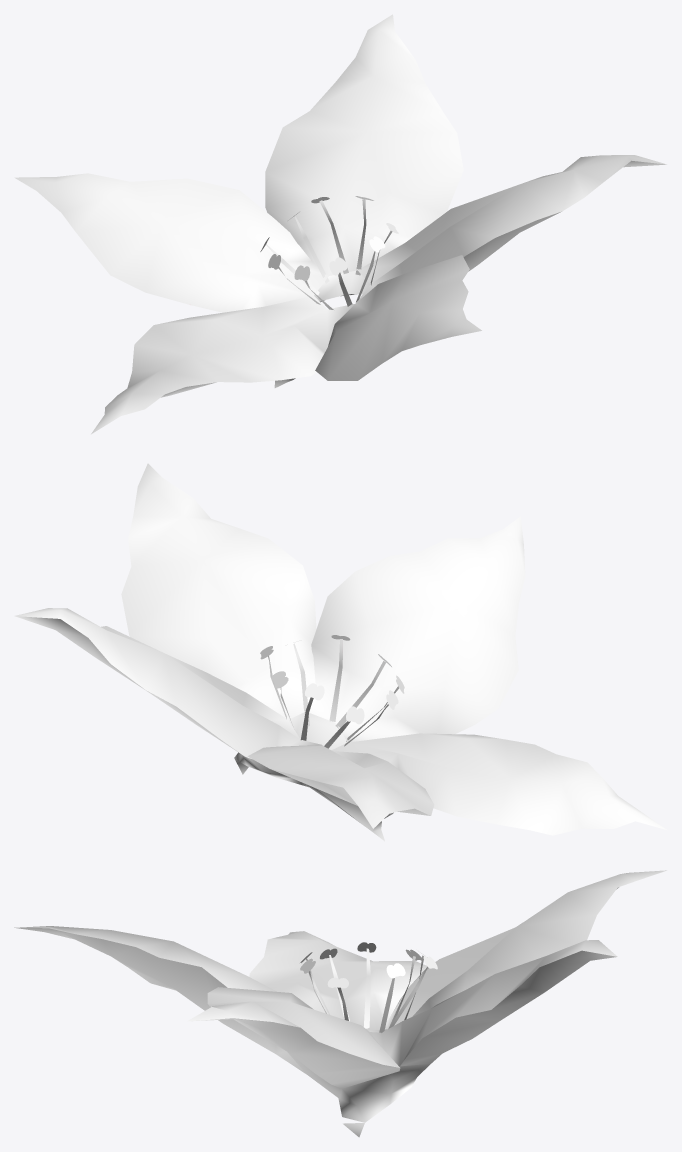
Rendered from lunartear.fbx.
The picture shows the model from 3 angles, top to bottom: view 1: azimuth 30°, elevation 25°; view 2: azimuth 150°, elevation 25°; view 3: azimuth 270°, elevation 25°; orthographic projection. The views are drawn at different scales.
Visible parts, largest first — view 1: lunartear; view 2: lunartear; view 3: lunartear.
Part boxes in pixels (x1,y1,x2,y2): lunartear: [14, 14, 666, 434]; lunartear: [14, 463, 667, 841]; lunartear: [14, 870, 666, 1137].
Bounding box in the file's own units: 95.01 × 40.63 × 94.02.
